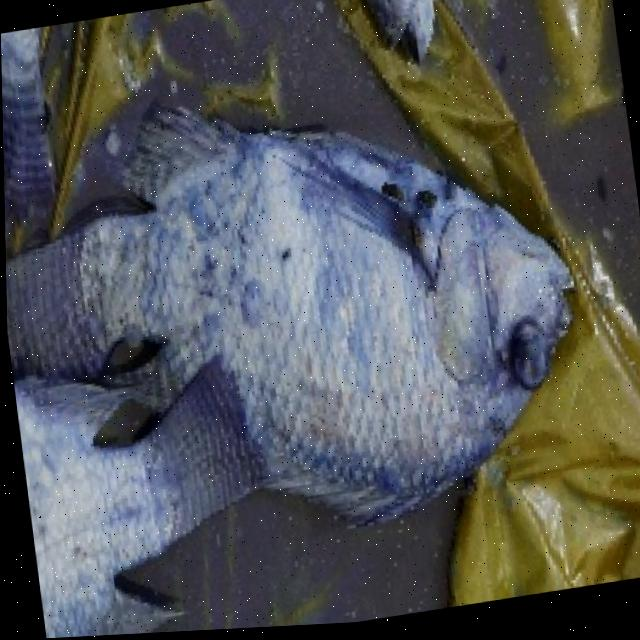Non-Fresh: (152, 103, 618, 514)
